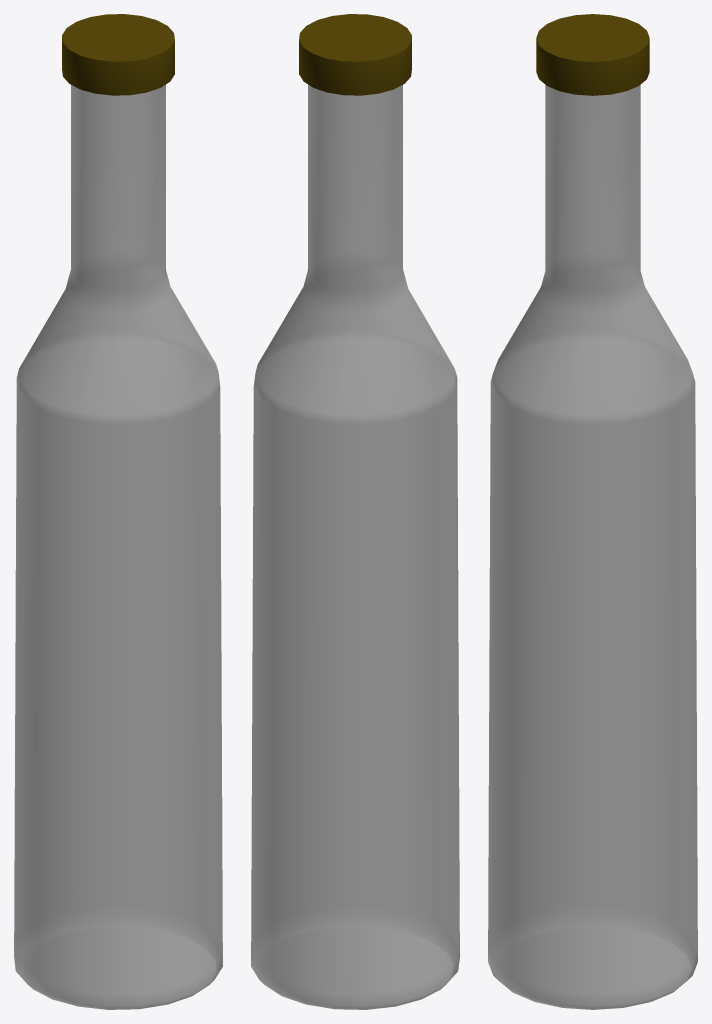
The model's file is TallBottle.fbx.
The picture shows the model from 3 angles, left to right: view 1: azimuth 30°, elevation 25°; view 2: azimuth 150°, elevation 25°; view 3: azimuth 270°, elevation 25°; orthographic projection.
Parts seen in each view (by area): view 1: TallThin; view 2: TallThin; view 3: TallThin.
Part boxes in pixels (x1,y1,x2,y2): TallThin: (14,14,222,1009); TallThin: (251,14,459,1009); TallThin: (488,14,697,1009).
Bounding box in the file's own units: 0.7044 × 3.44 × 0.7044.
